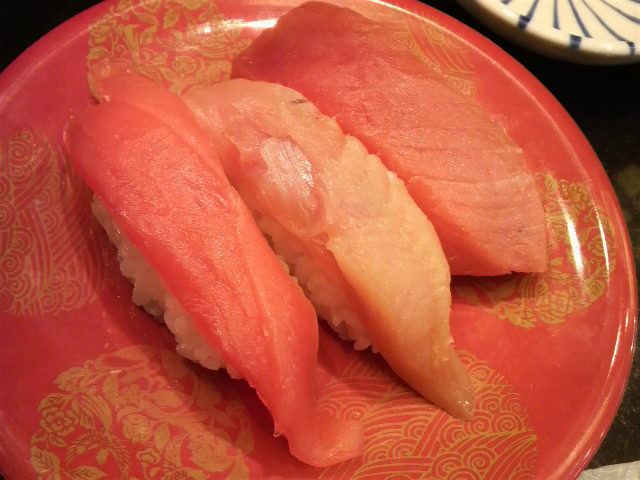medium_fatty_tuna: (67, 76, 360, 461)
